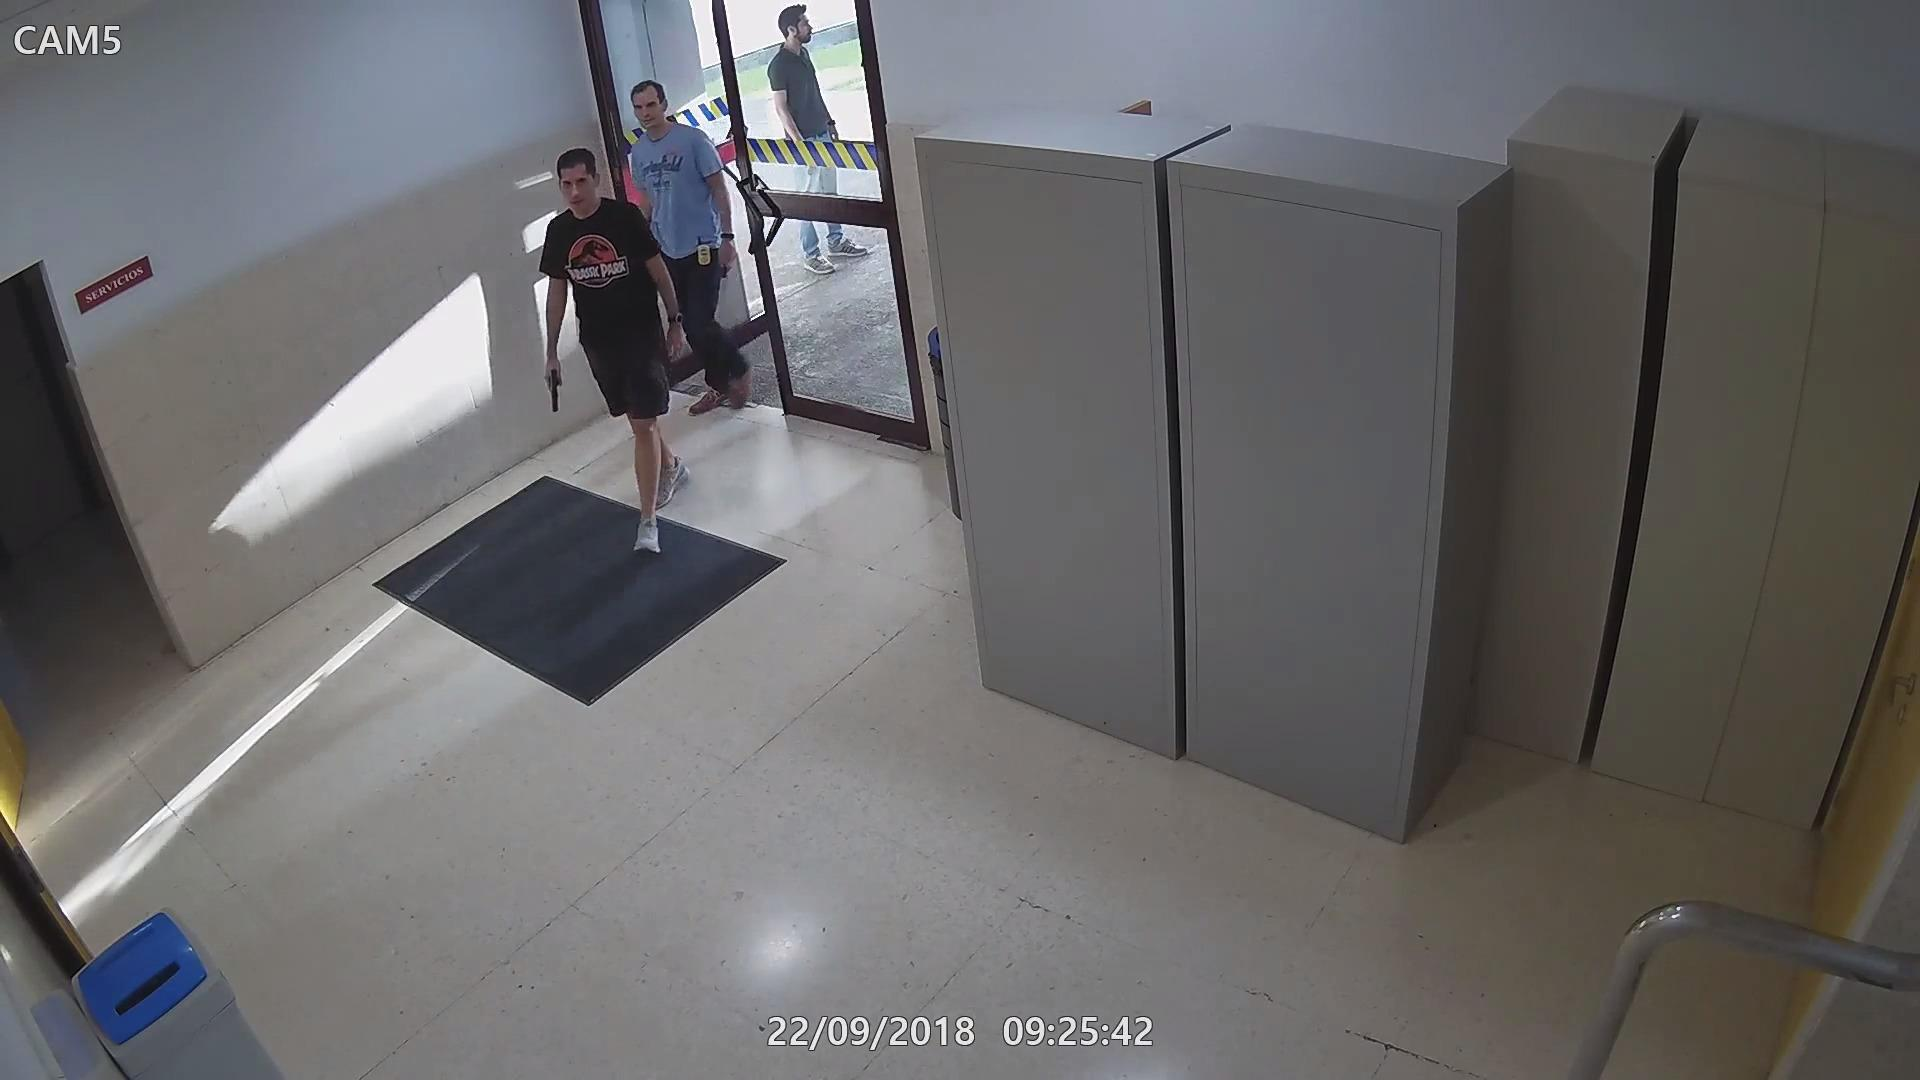Handgun: (535, 356, 562, 426)
